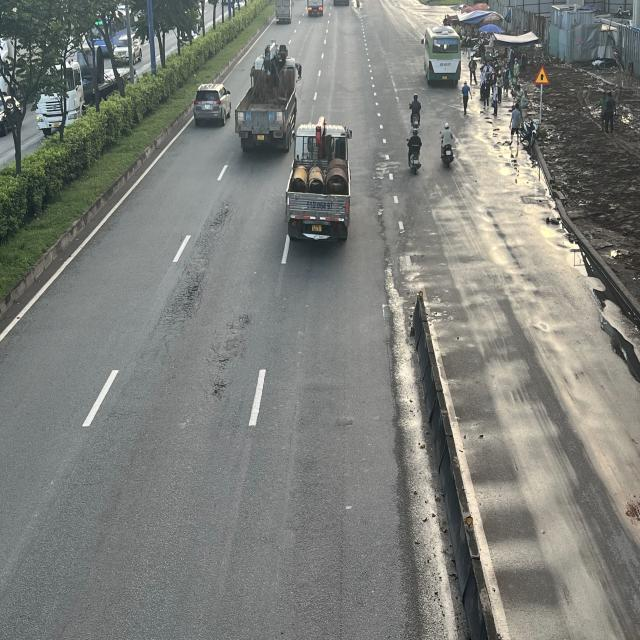car: (193, 80, 232, 124)
coach: (423, 27, 463, 88)
truck: (289, 120, 354, 242), (238, 41, 302, 150), (275, 0, 293, 22)
